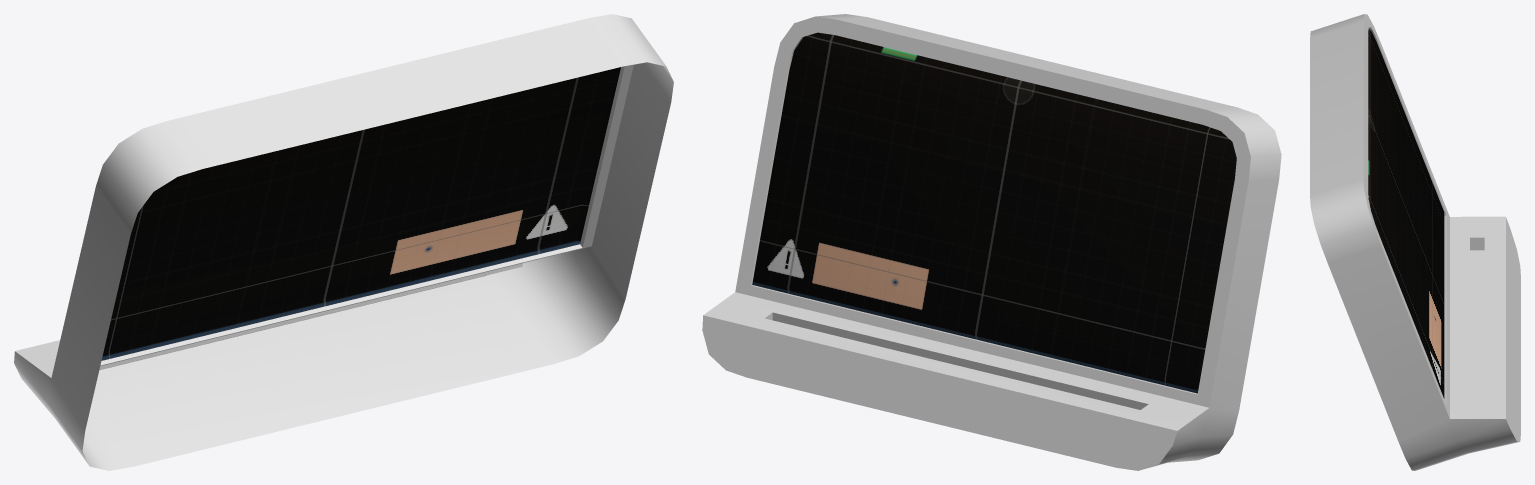
File: SM_MapScreen.fbx
The picture shows the model from 3 angles, left to right: view 1: azimuth 30°, elevation 25°; view 2: azimuth 150°, elevation 25°; view 3: azimuth 270°, elevation 25°; orthographic projection. The views are drawn at different scales.
Visible parts, largest first — view 1: MapHolder, MapScreen; view 2: MapScreen, MapHolder; view 3: MapHolder, MapScreen.
Part boxes in pixels (<box>): MapHolder: <box>14,14,673,470</box>; MapScreen: <box>101,67,620,360</box>; MapScreen: <box>752,32,1236,393</box>; MapHolder: <box>702,14,1281,470</box>; MapHolder: <box>1310,14,1520,470</box>; MapScreen: <box>1368,29,1444,398</box>.
Bounding box in the file's own units: 1.64 × 1.07 × 0.7225.
2 materials, 2 textured.
